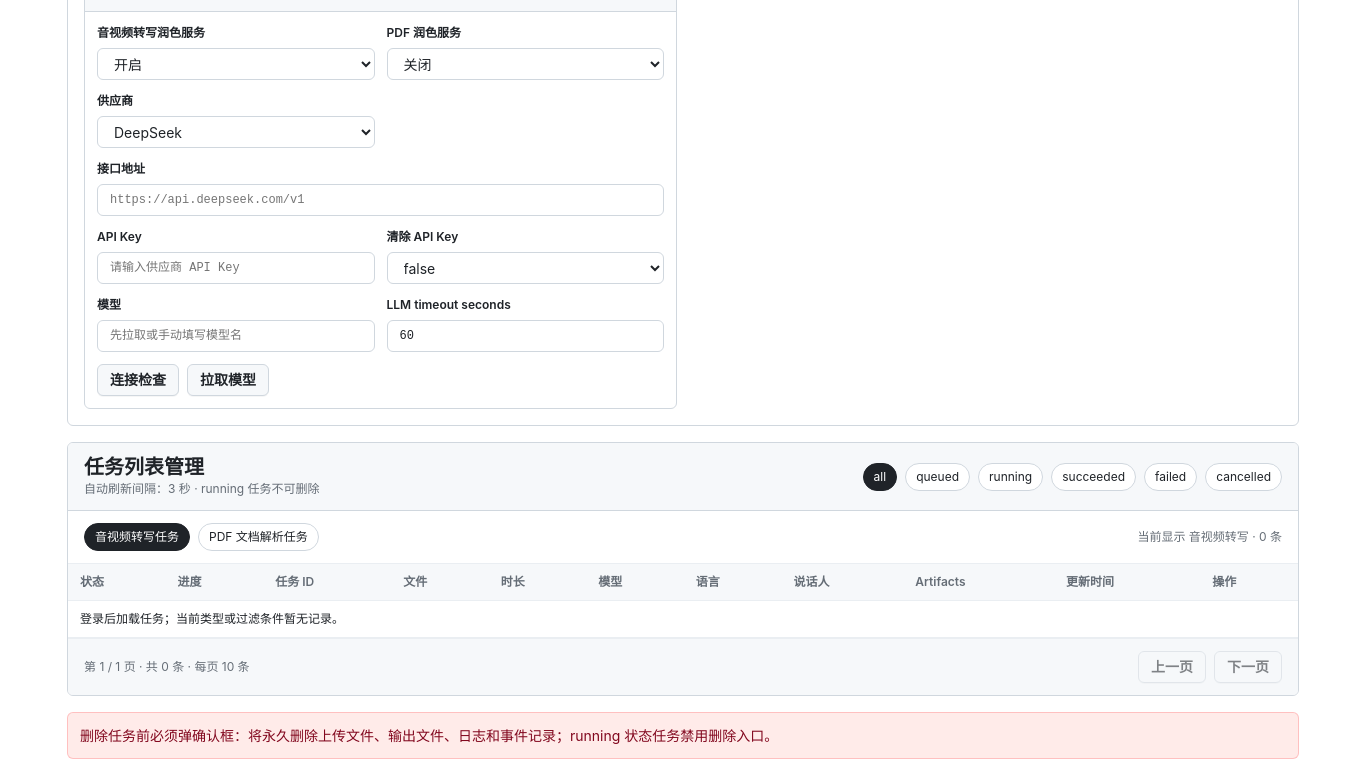
Test: hash routing shell › shows fetched LLM models on the right and updates the model field from selection
(page scrolled)
Step 1. Click the button "拉取模型" → (228, 380), box [187,364,269,396]
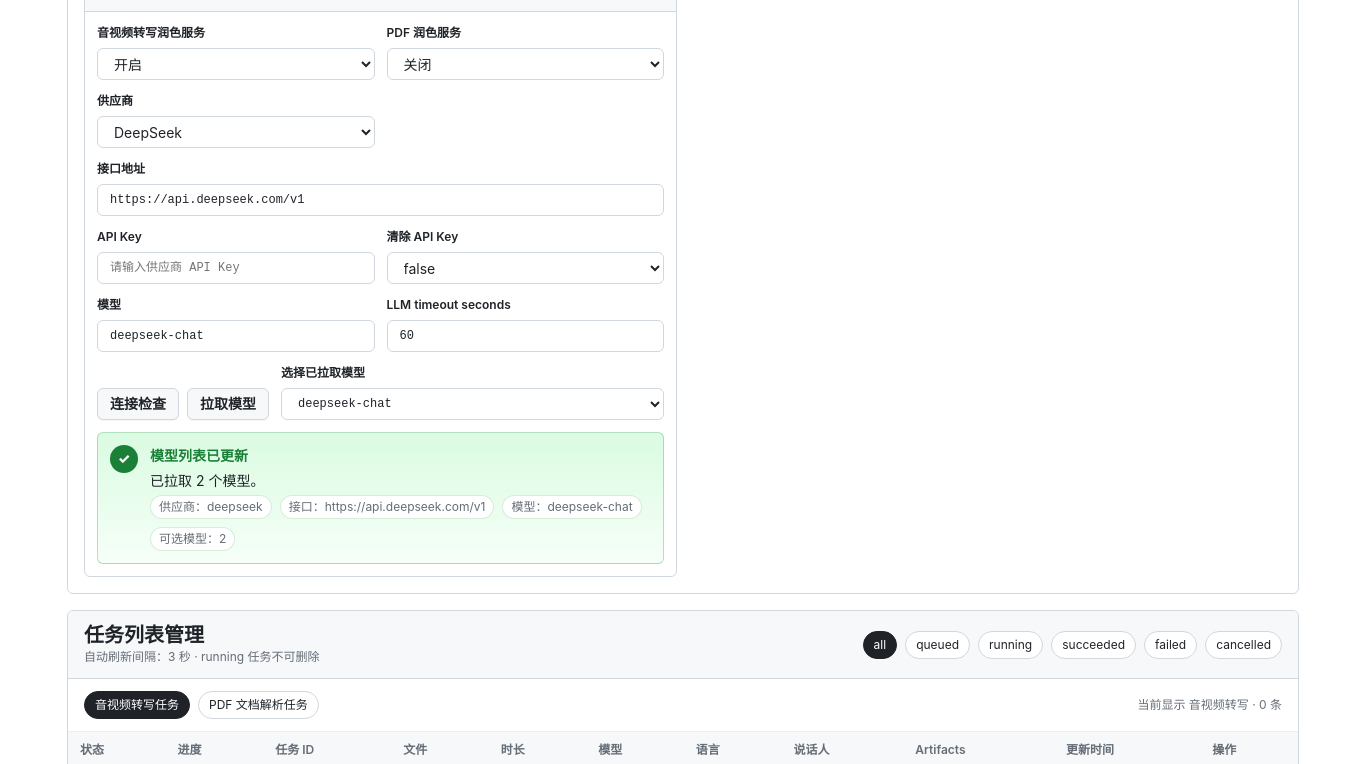
expect the field labelled "模型" holds "deepseek-chat": met, box [97,320,374,352]
Step 2. Select "deepseek-reasoner" in the dropdown labelled "选择已拉取模型" → (472, 404), box [281,388,664,420]
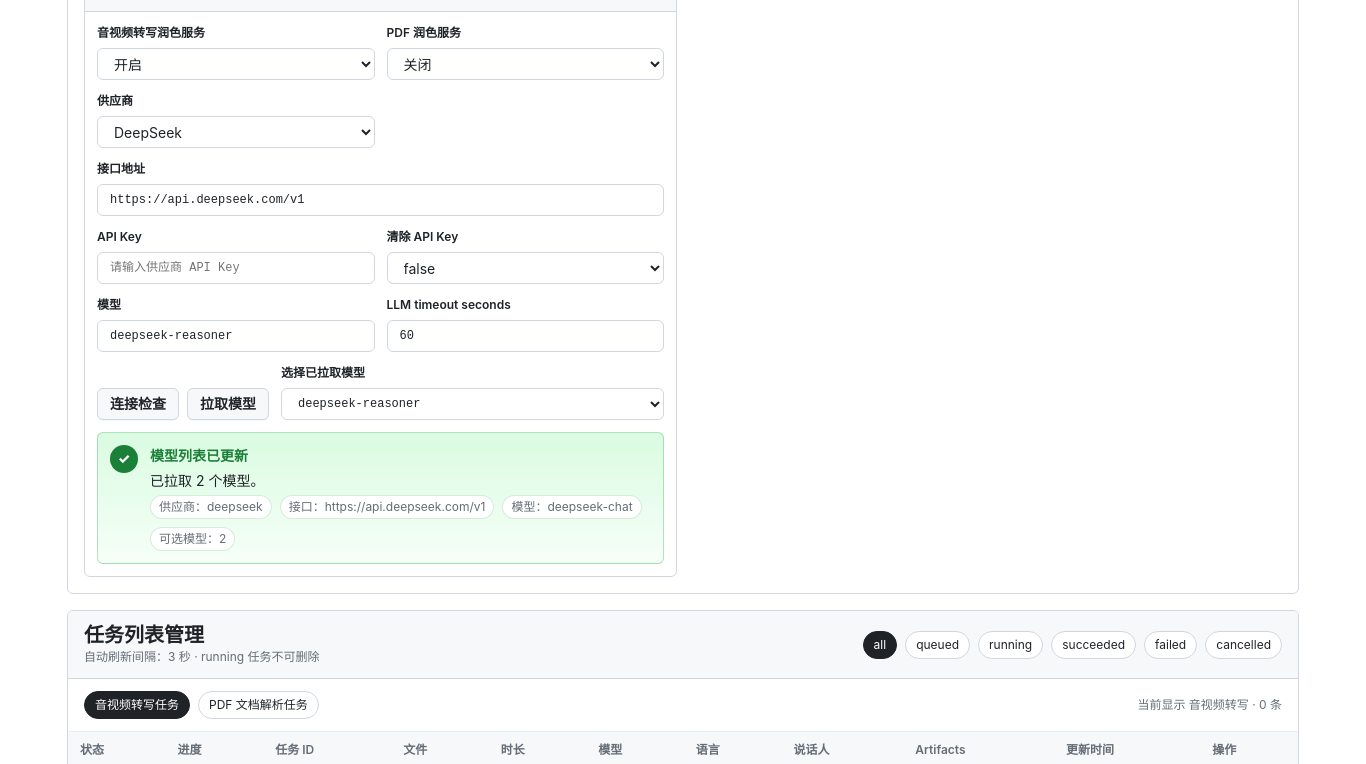
expect the field labelled "模型" holds "deepseek-reasoner": met, box [97,320,374,352]
Step 3. Click the button "连接检查" → (138, 404), box [97,388,179,420]
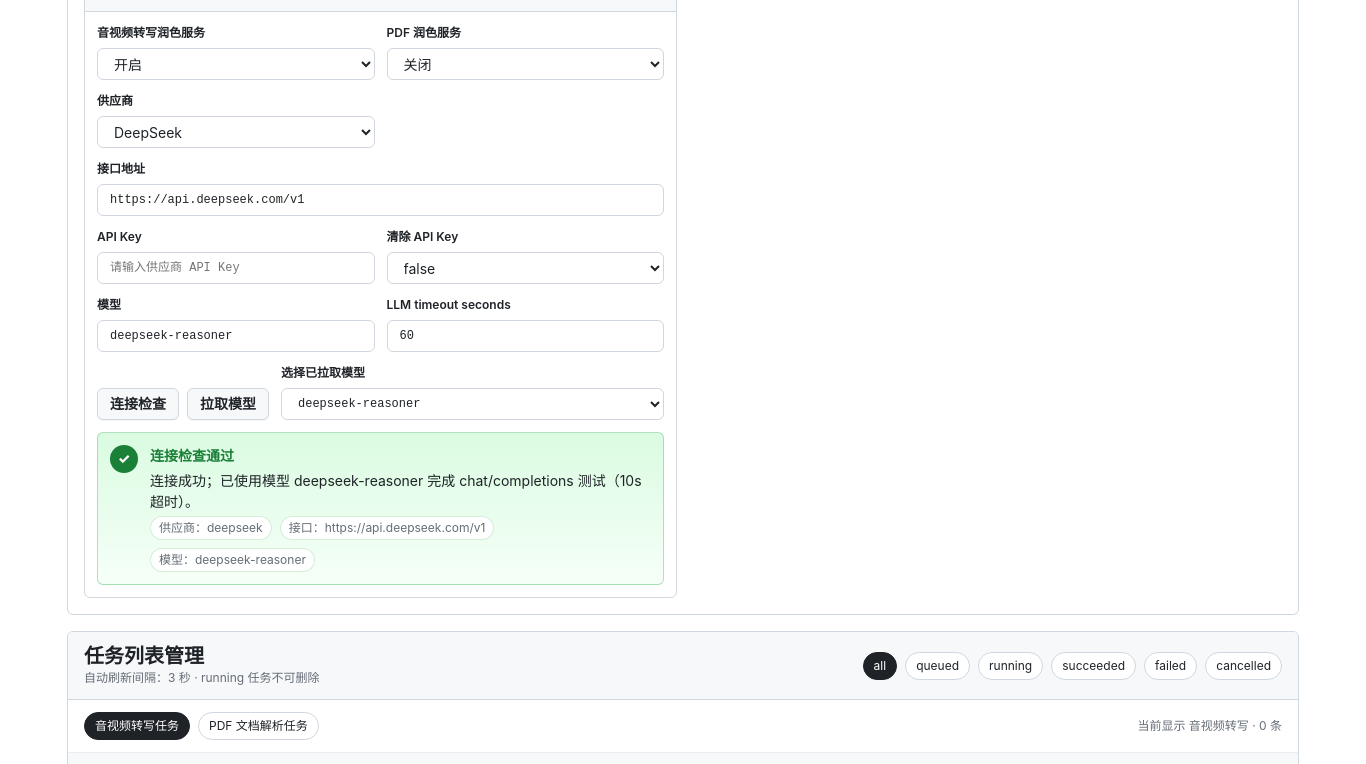
expect the message shows "供应商：deepseek": met, box [97,432,664,585]
expect the message shows "连接检查通过": met, box [150,447,234,464]
expect the message shows "chat/completions 测试": met, box [150,472,642,510]
